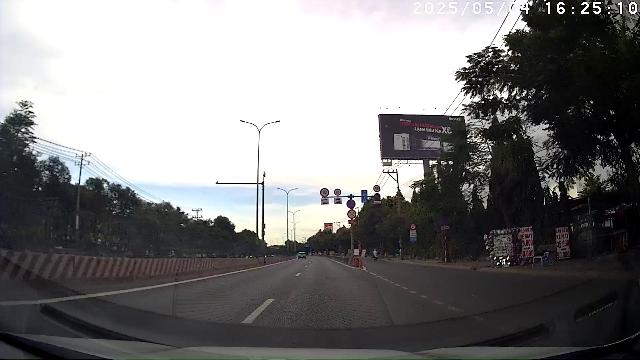127-toc-do-toi-da-50: (374, 185, 381, 192)
127-toc-do-toi-da-60: (334, 188, 342, 195)
127-toc-do-toi-da-80: (320, 188, 330, 196)
